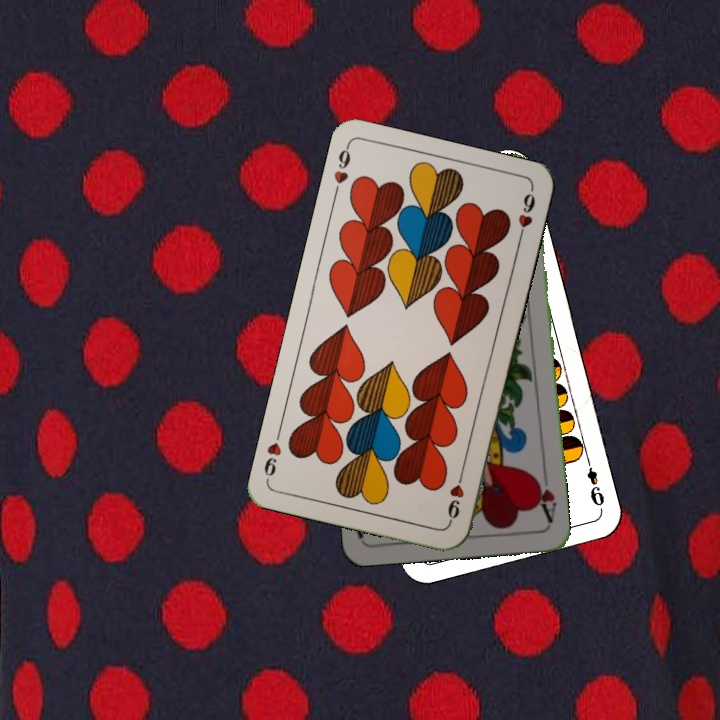E9: (582, 453, 607, 512)
H9: (443, 468, 467, 526), (329, 142, 353, 200)
HA: (531, 467, 559, 525)
